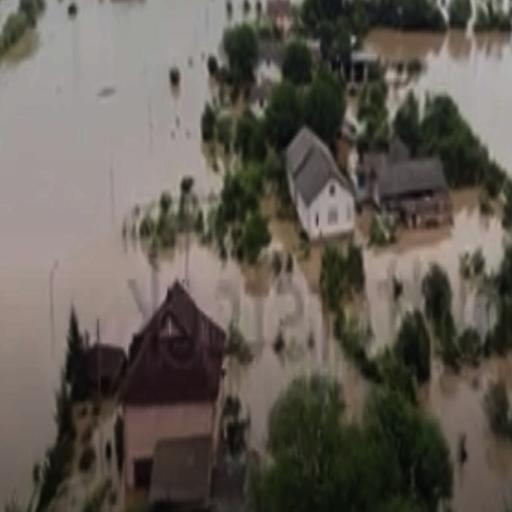flood: (0, 0, 368, 512), (356, 188, 512, 348), (362, 26, 512, 175), (421, 353, 512, 512)
house: (110, 277, 234, 509), (280, 126, 353, 242), (369, 148, 447, 232)
